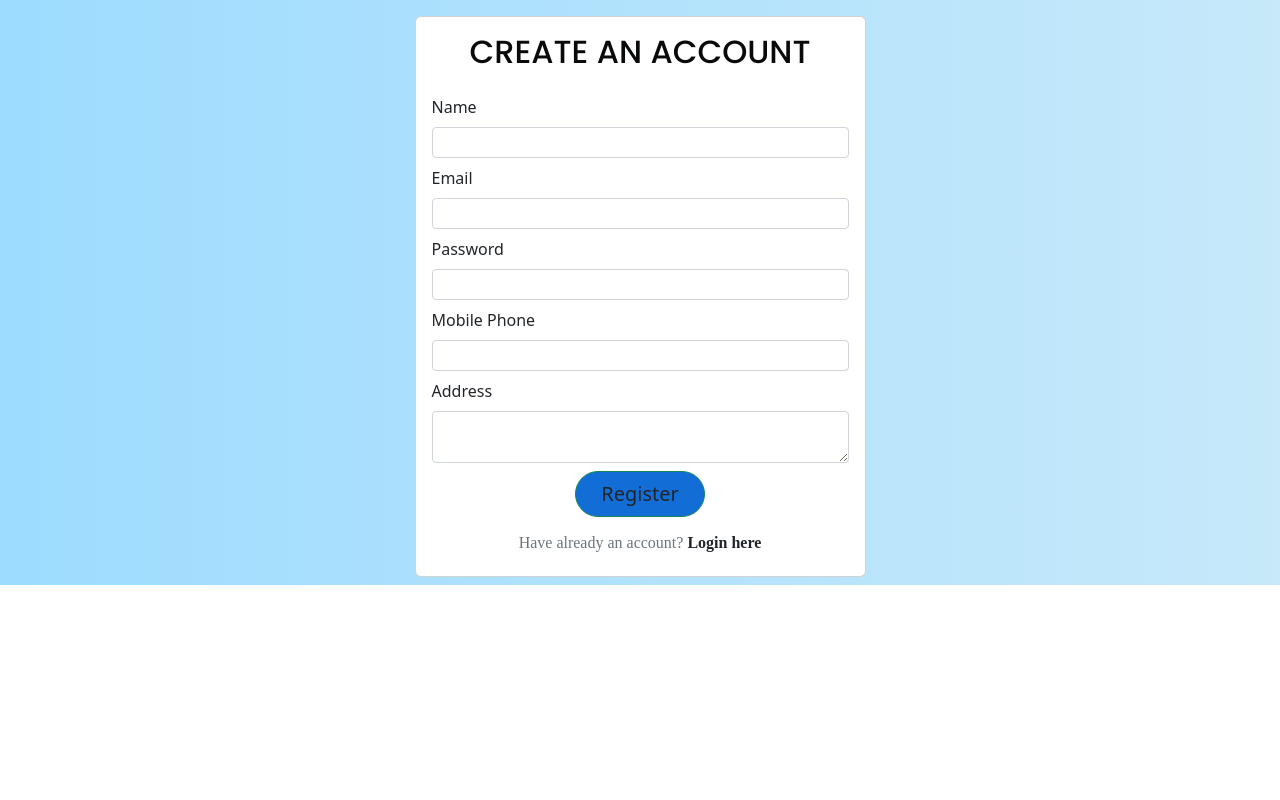
shows an error message when registration fails on the server
The width and height of the screenshot is (1280, 800).
Type "Anna Kovacs" into the field labelled "Name".
click(640, 143); type("Anna Kovacs")  # box [432,127,848,158]
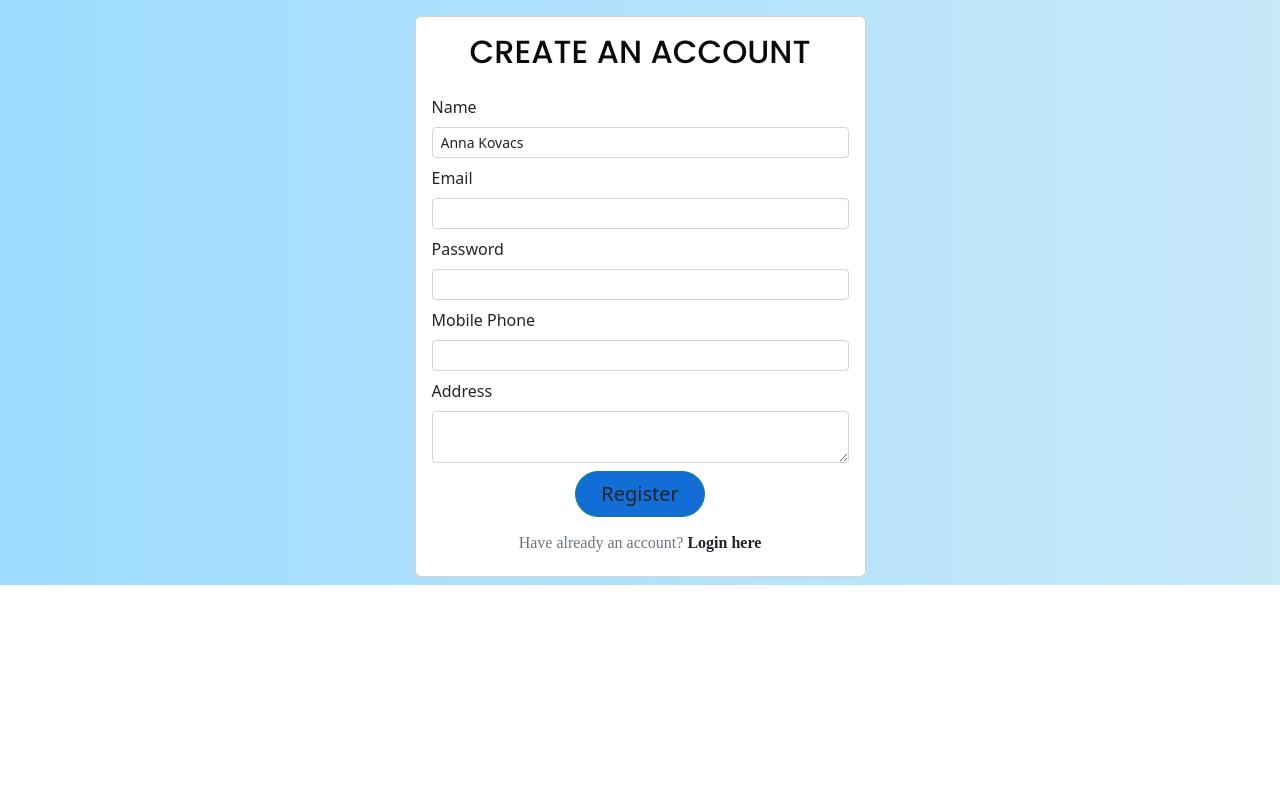
Type "anna@example.com" into the field labelled "Email".
click(640, 214); type("anna@example.com")  # box [432,198,848,229]
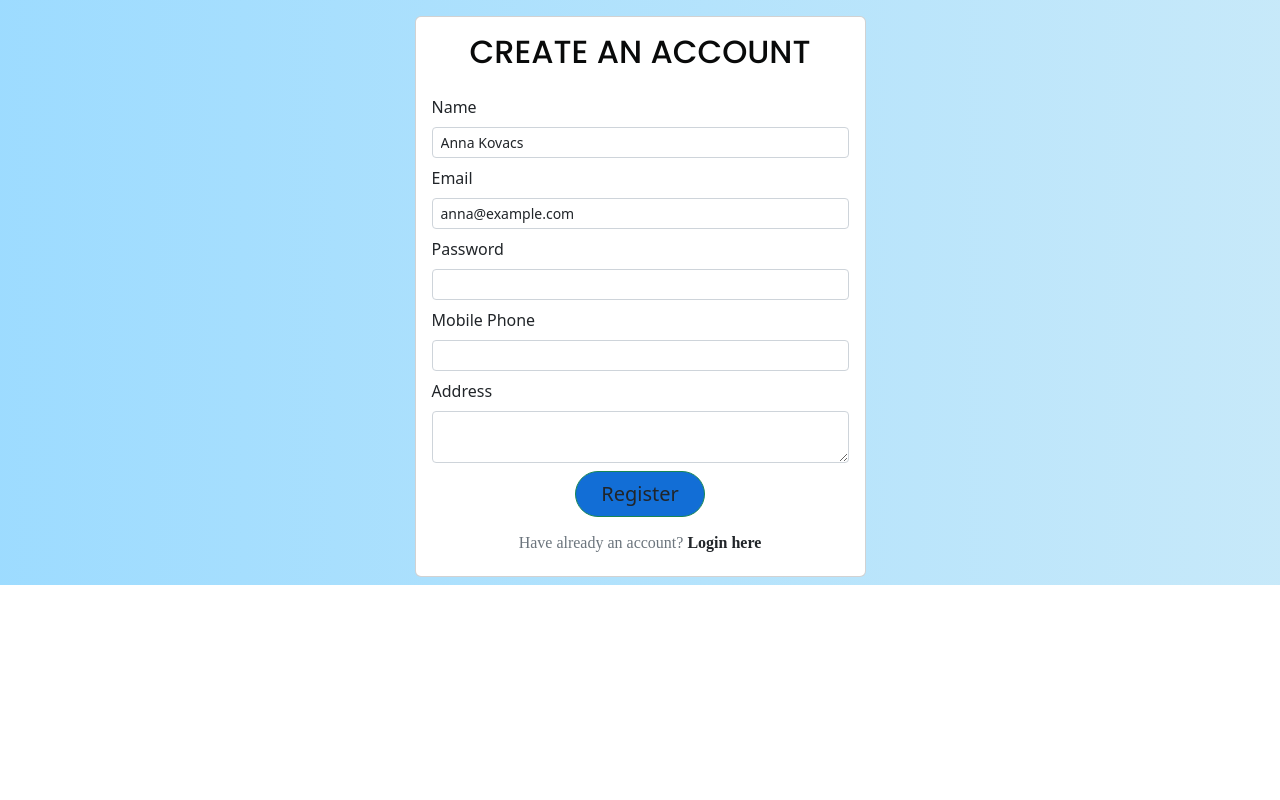
Type "Secret123!" into the password field labelled "Password".
click(640, 285); type("Secret123!")  # box [432,269,848,300]
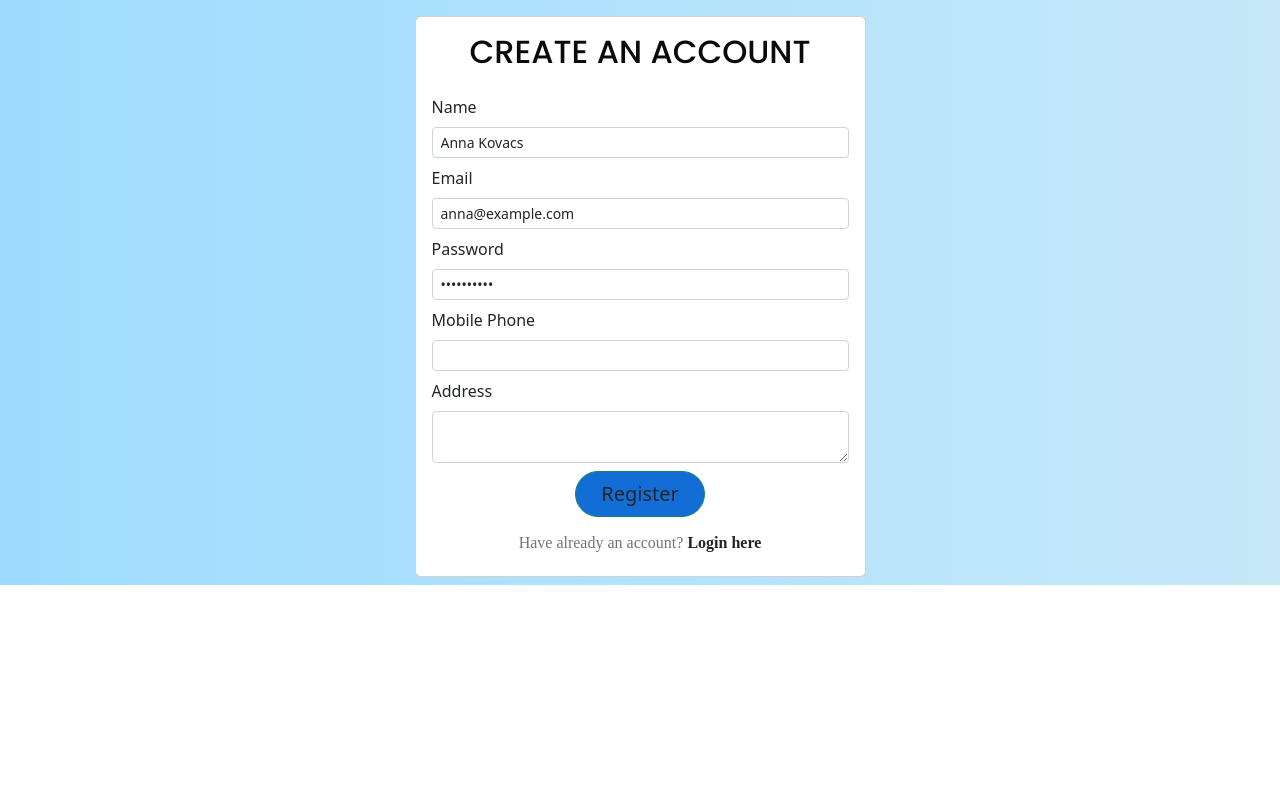
Type "36301234567" into the 3rd field.
click(640, 356); type("36301234567")  # box [432,340,848,371]
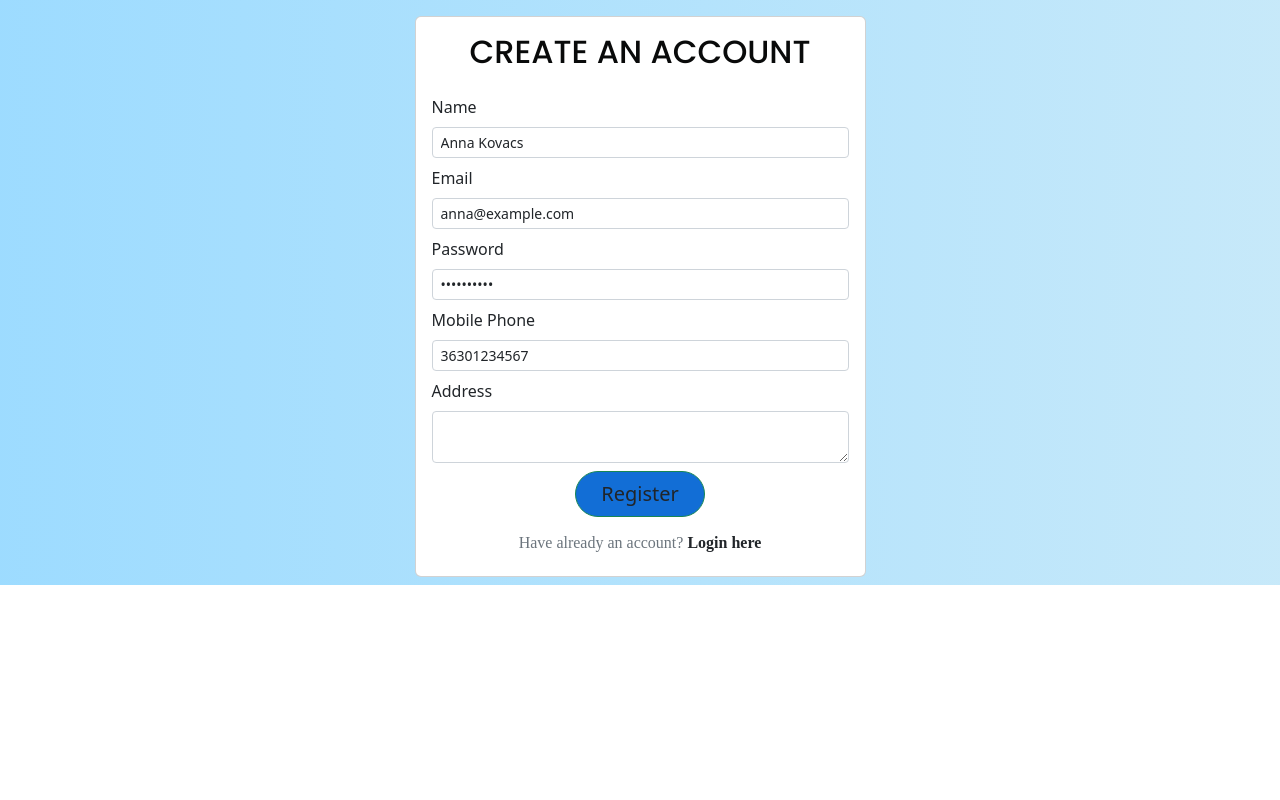
Type "Budapest" into the text box.
click(640, 437); type("Budapest")  # box [432,411,848,463]
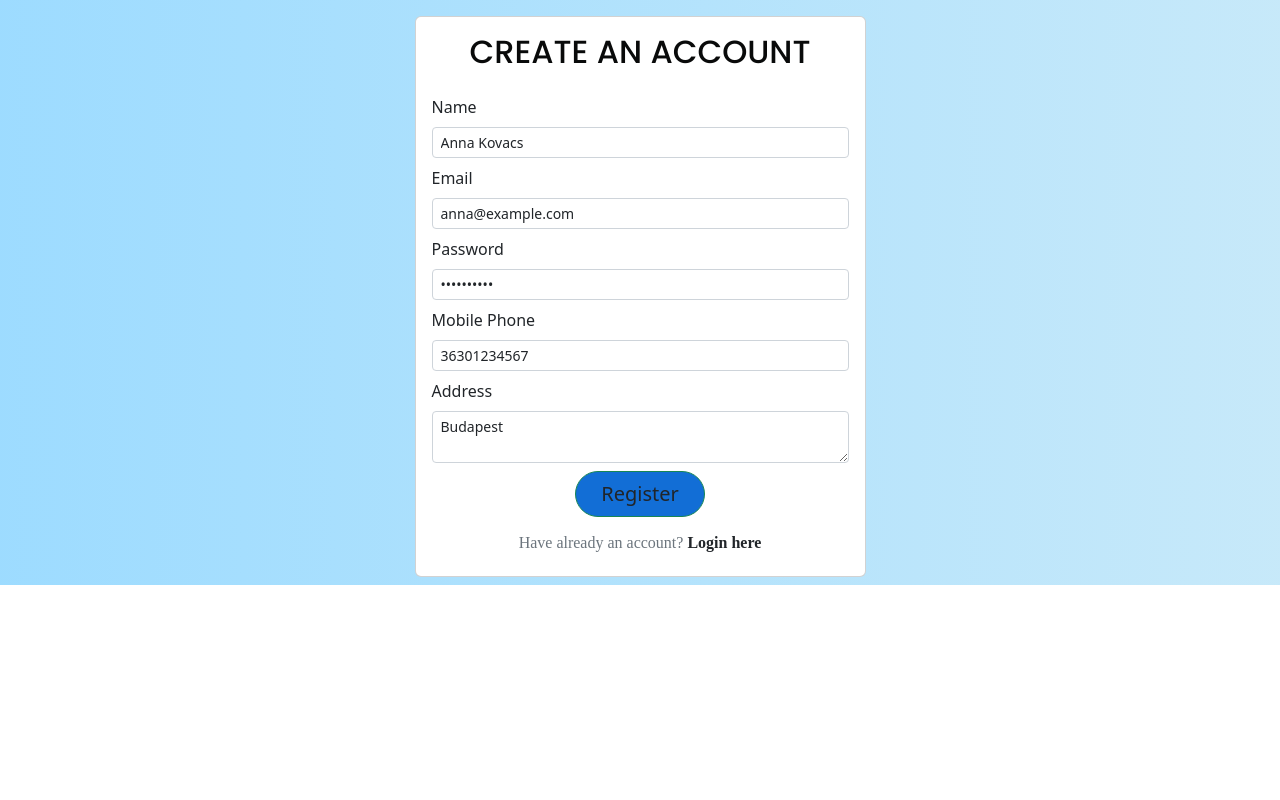
Click the button "Register".
click(640, 494)  # box [575,471,705,517]
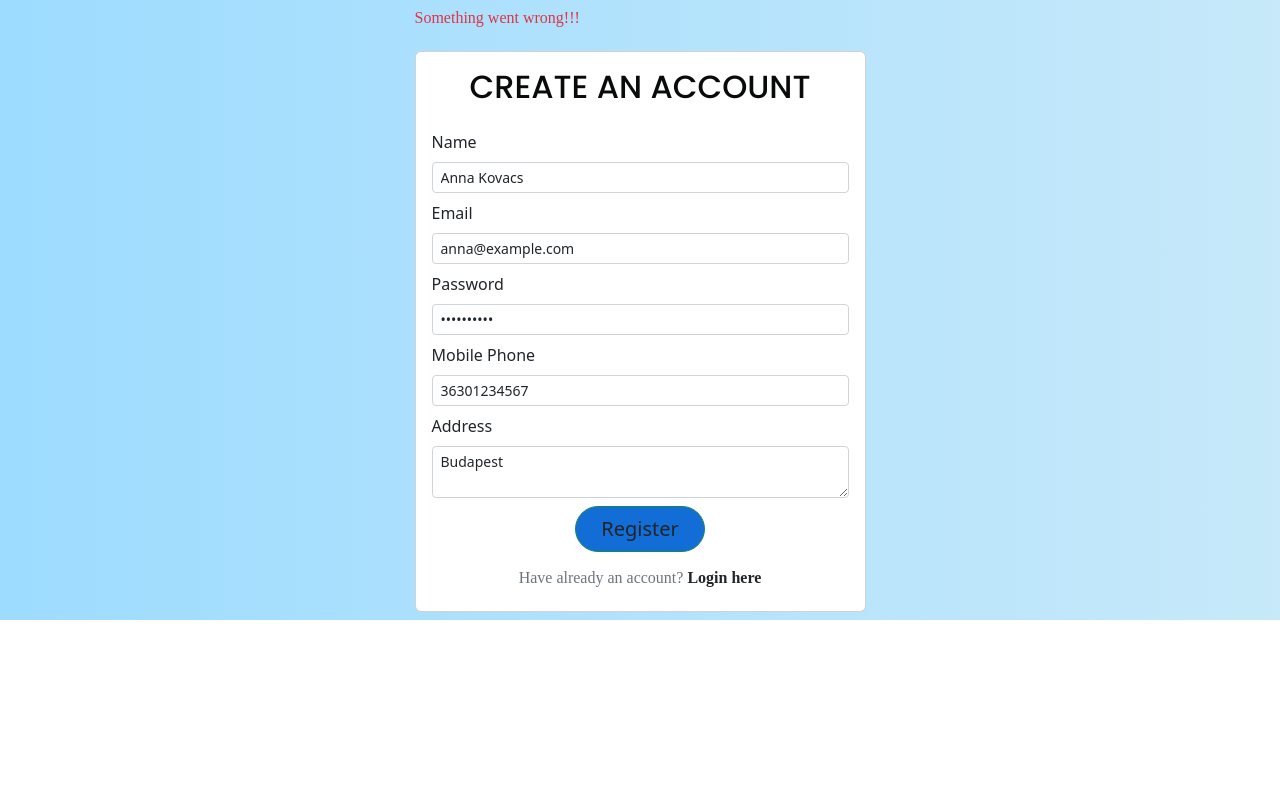
Result: the text "Something went wrong!!!" is shown at [414,9,580,26]
